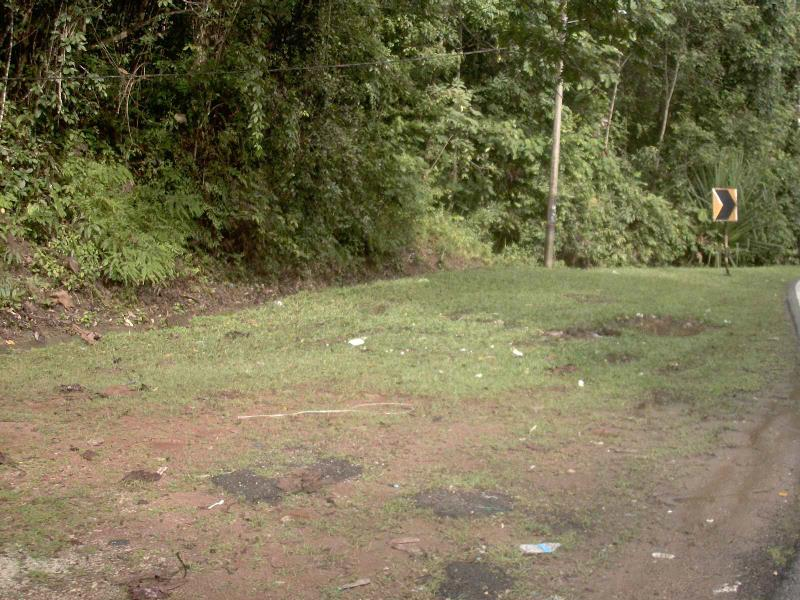traffic_sign: (701, 177, 746, 231)
